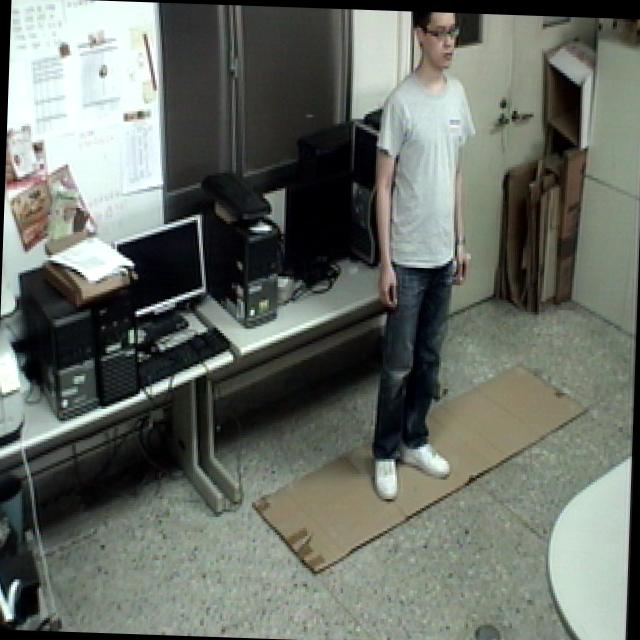stand: (353, 2, 488, 510)
